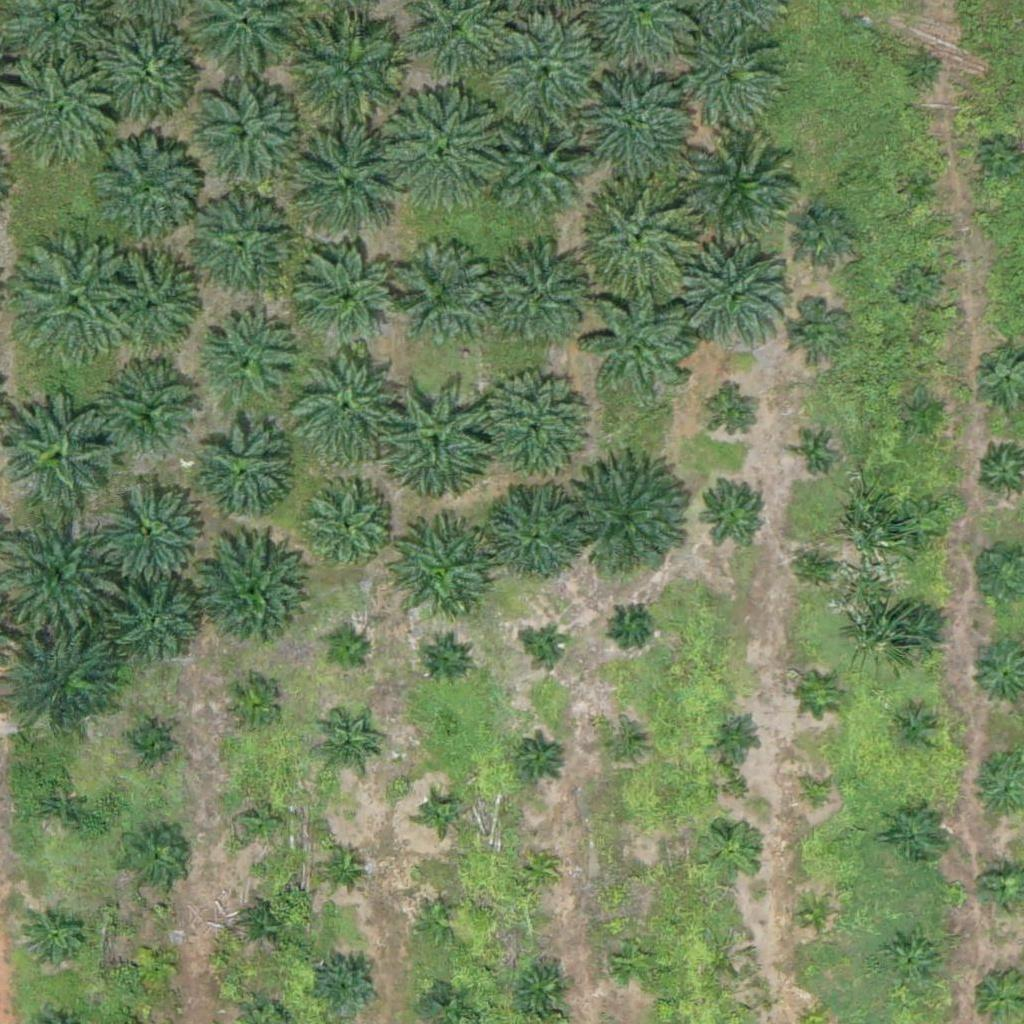Kelapa_Sawit: (1, 56, 126, 182), (84, 6, 209, 132), (80, 127, 205, 253), (182, 77, 307, 203), (288, 7, 413, 133), (287, 123, 412, 249), (483, 19, 608, 145), (570, 70, 695, 196), (682, 138, 807, 264), (376, 377, 501, 503), (284, 343, 409, 469), (9, 238, 134, 364), (2, 619, 127, 745), (383, 90, 508, 215), (572, 458, 697, 583), (193, 539, 306, 653), (584, 285, 697, 398), (473, 371, 586, 484), (94, 469, 206, 583), (4, 389, 116, 503), (681, 245, 793, 358), (585, 180, 697, 293), (382, 521, 494, 634), (682, 33, 782, 134), (483, 482, 583, 583), (489, 247, 589, 348), (388, 246, 488, 347), (298, 249, 398, 350), (297, 476, 397, 577), (186, 196, 286, 297), (198, 312, 298, 413), (100, 245, 200, 346), (190, 421, 290, 521), (103, 360, 203, 460), (112, 580, 200, 668), (493, 129, 580, 218), (696, 474, 771, 549), (314, 719, 377, 782), (220, 673, 283, 736), (886, 802, 949, 865), (316, 955, 379, 1018), (882, 932, 945, 995), (887, 602, 950, 665), (783, 301, 846, 364), (793, 203, 856, 266), (231, 790, 294, 853), (124, 828, 186, 891), (24, 907, 86, 970), (511, 959, 573, 1022), (701, 820, 763, 883), (28, 777, 90, 840), (891, 706, 941, 757), (241, 898, 291, 949), (710, 391, 760, 442), (898, 500, 948, 551), (317, 841, 367, 892), (121, 719, 171, 770), (130, 938, 180, 989), (421, 634, 471, 684), (515, 732, 565, 782), (711, 711, 761, 761), (611, 936, 661, 986), (414, 896, 464, 946), (322, 629, 372, 679), (805, 676, 843, 714), (612, 604, 650, 642), (898, 267, 936, 305), (902, 169, 940, 207), (903, 50, 941, 88), (905, 393, 943, 431), (798, 777, 836, 815), (796, 896, 834, 934), (520, 850, 558, 888), (423, 795, 461, 833), (529, 630, 566, 668), (984, 143, 1021, 181), (606, 728, 643, 766), (618, 857, 655, 895), (796, 438, 833, 475), (800, 548, 837, 585)
